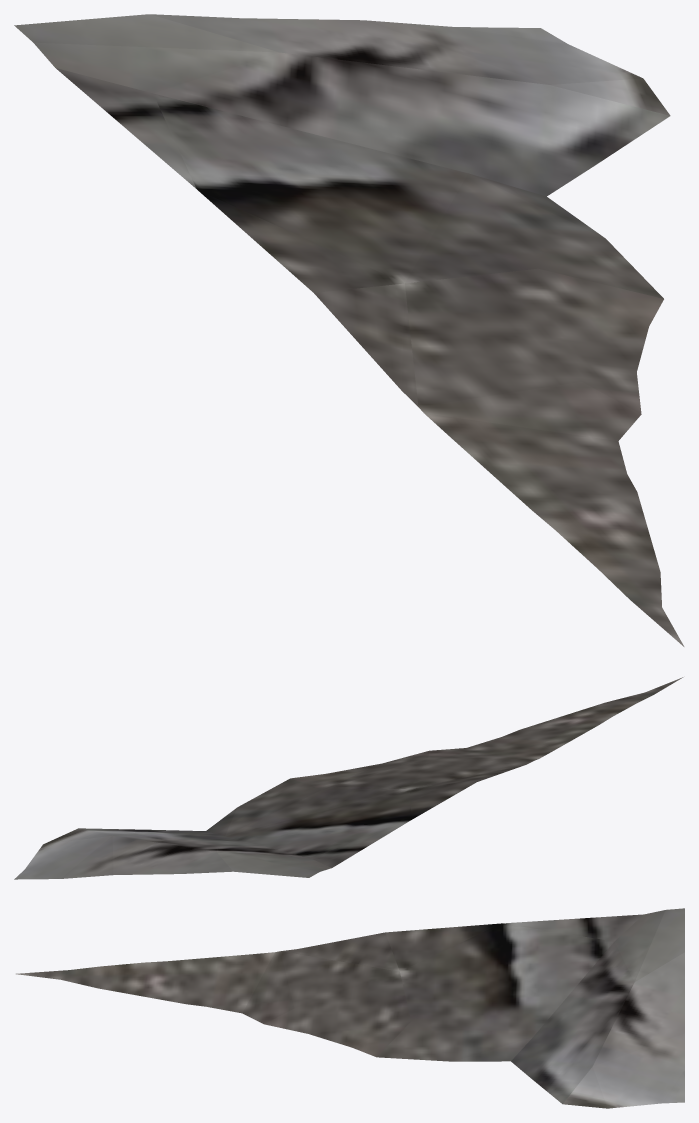
The picture shows the model from 3 angles, top to bottom: view 1: azimuth 30°, elevation 25°; view 2: azimuth 150°, elevation 25°; view 3: azimuth 270°, elevation 25°; orthographic projection. The views are drawn at different scales.
Bounding box in the file's own units: 0.3123 × 0.0709 × 0.6572.
1 material, 1 textured.
